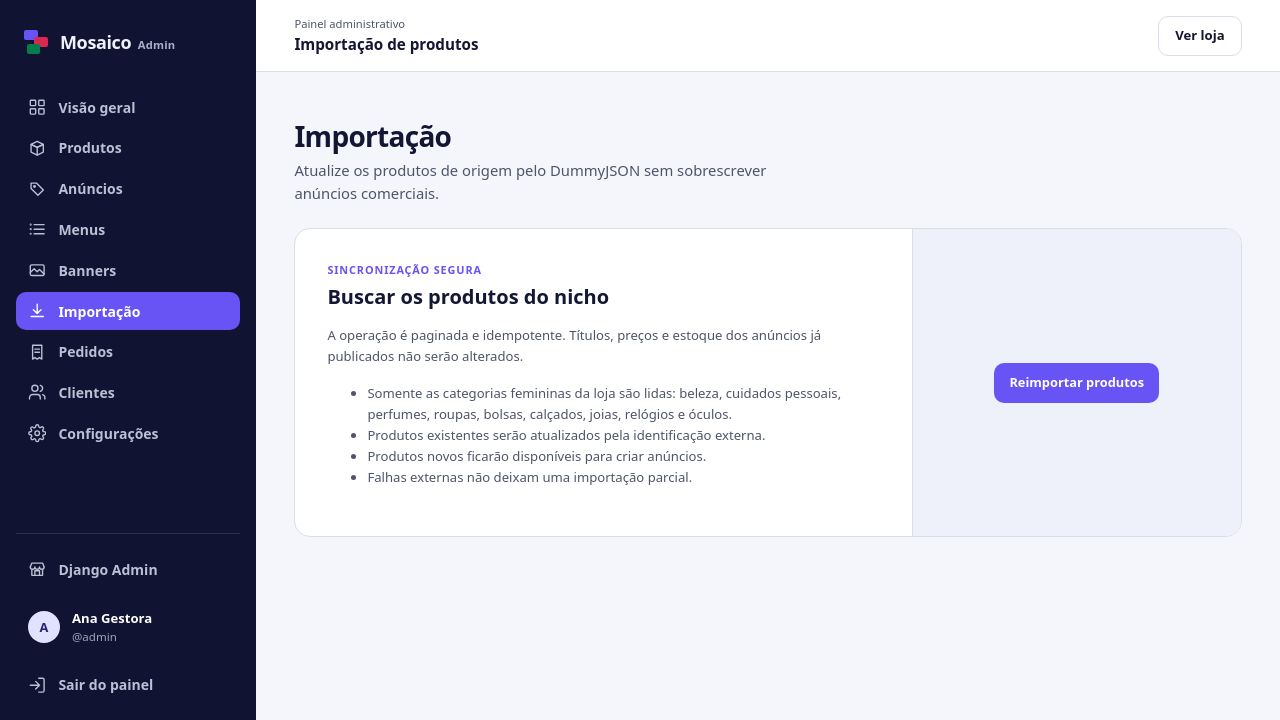
it: Mosaico Admin › requires confirmation and displays the product import summary
What coordinates should you click on to do the following:
click the button "Reimportar produtos"
I would click on:
 (1077, 382)
Its box is [994,362,1159,402].
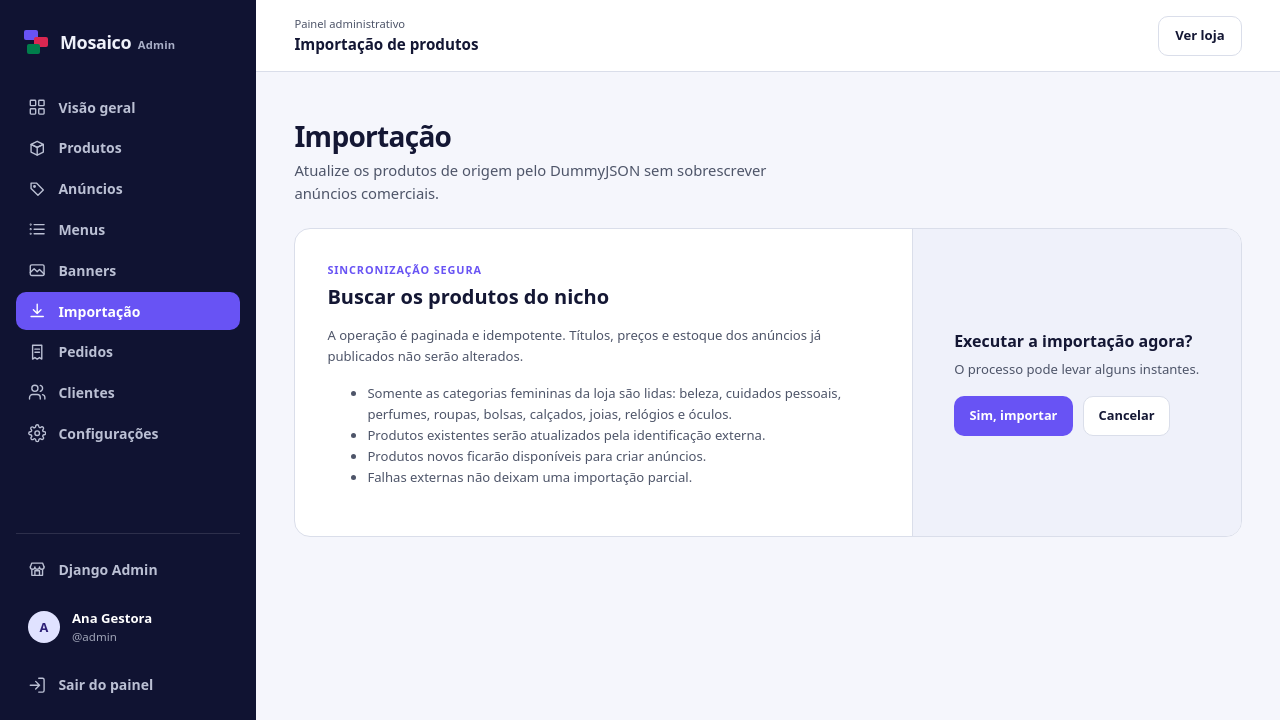
Check: the text "Executar a importação agora?" is shown, box [954,330,1192,352]
What coordinates should you click on to do the following:
click the button "Sim, importar"
I would click on:
 (1013, 416)
Its box is [954,396,1073,436].
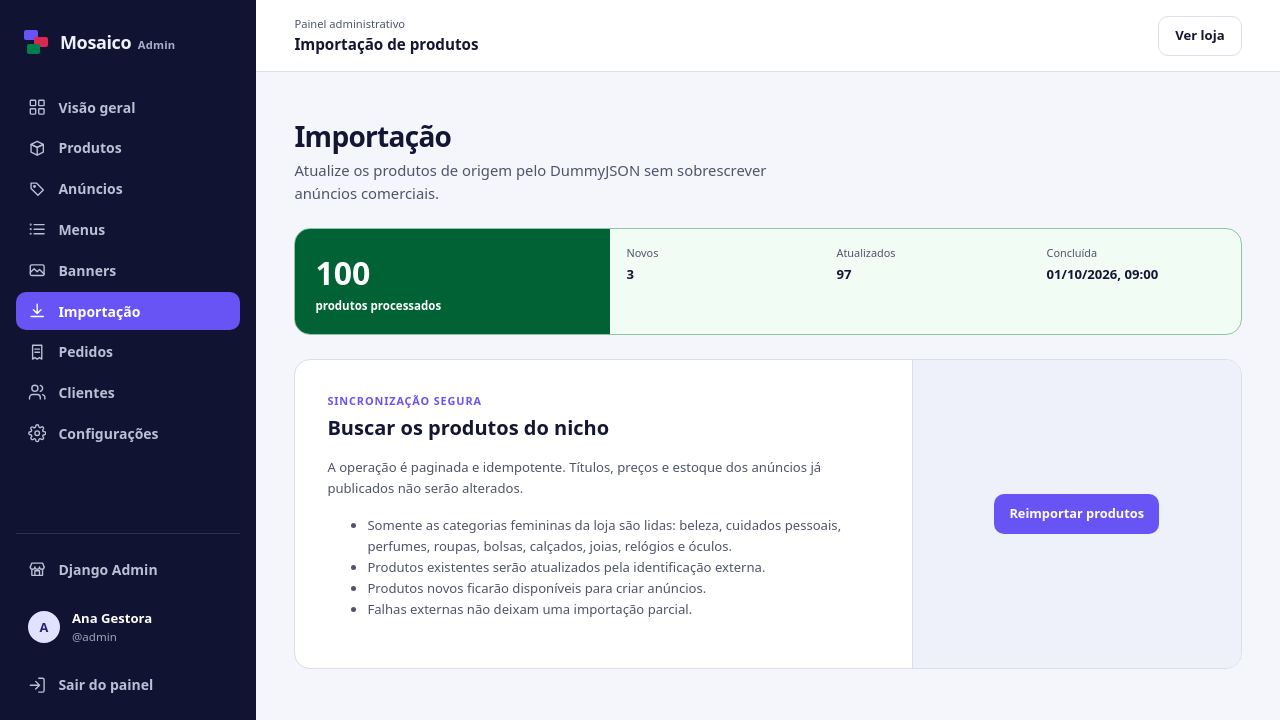
Check: the text "100" is shown, box [315,251,370,294]
Check: the text "produtos processados" is shown, box [315,298,441,313]
